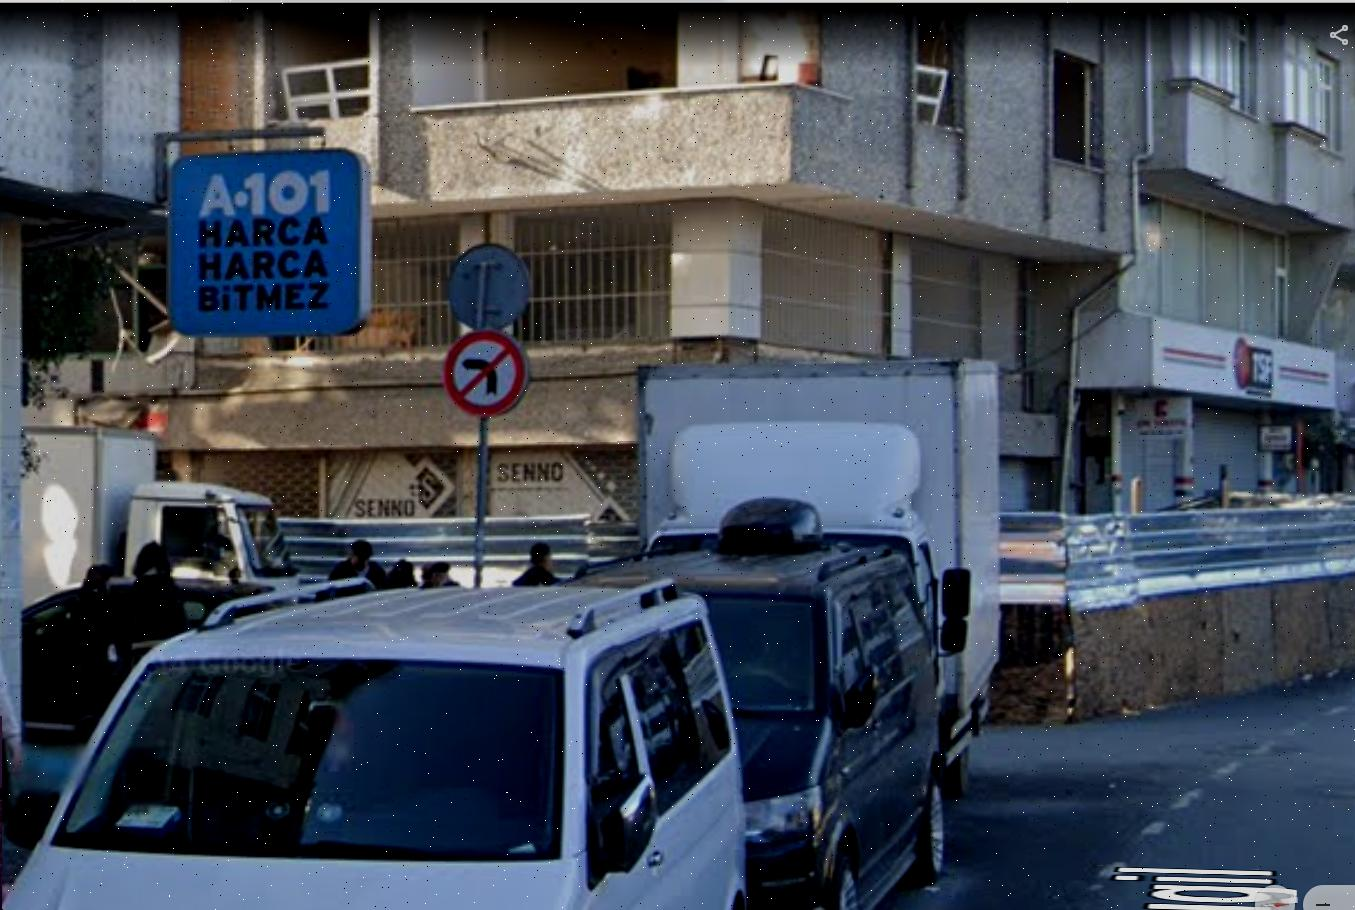leftturnsareforbidden: (445, 331, 522, 410)
